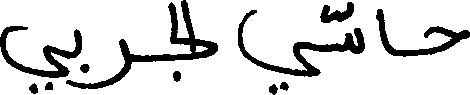ا: (179, 0, 200, 54), (374, 7, 390, 55)
ب: (71, 26, 91, 74)
ج: (167, 37, 218, 83)
ح: (421, 24, 468, 55)
ر: (95, 36, 131, 89)
س: (335, 0, 365, 54)
ل: (158, 1, 180, 44)
ي: (234, 7, 320, 92), (0, 24, 68, 93)
